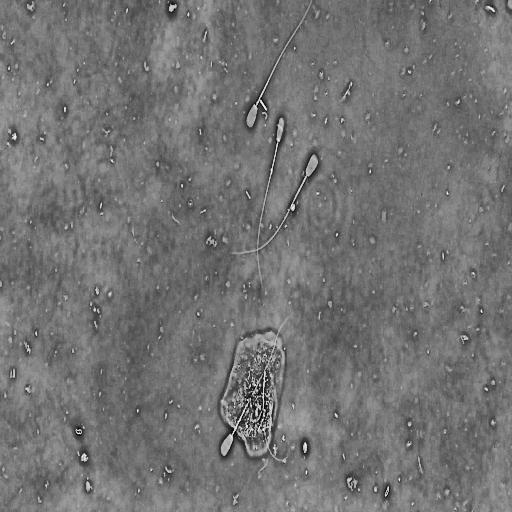dirt-particles: (218, 328, 287, 461), (167, 0, 180, 15), (301, 437, 309, 457), (84, 478, 92, 494), (80, 451, 89, 465), (74, 425, 83, 437), (383, 485, 390, 500), (290, 202, 296, 213)
distal-droplet: (270, 168, 273, 174)
normal: (219, 314, 291, 459), (231, 150, 320, 257), (245, 0, 313, 130), (256, 115, 286, 291)
